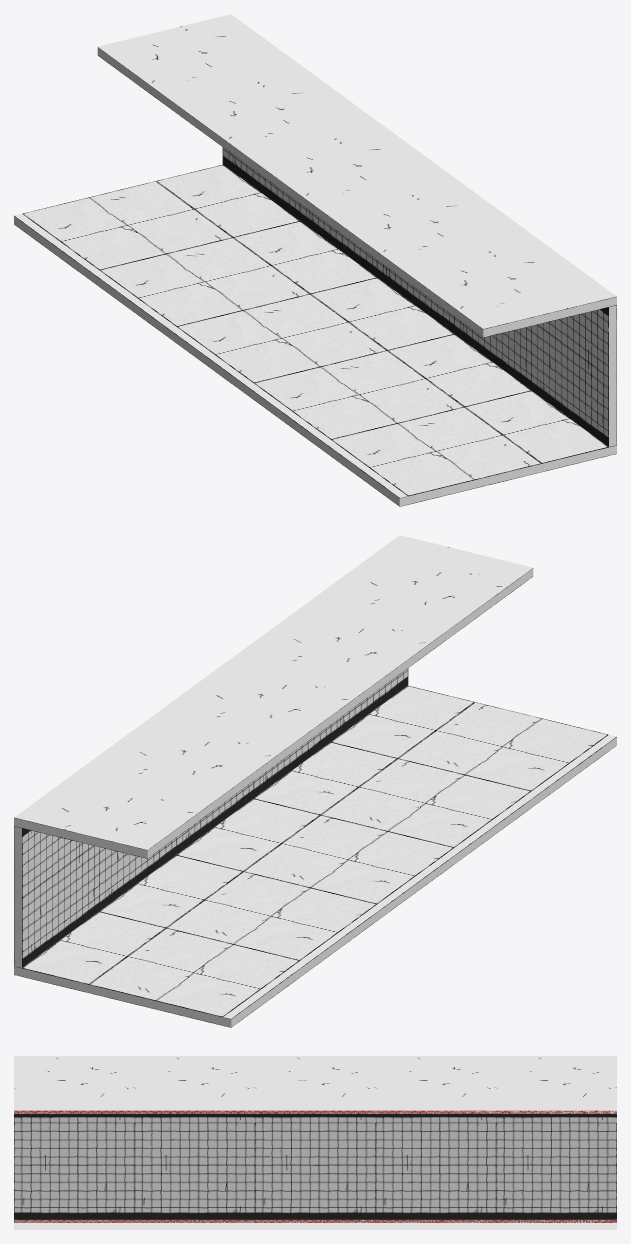
Rendered from Station1.glb.
3 renders of one model, top to bottom at view 1: azimuth 30°, elevation 25°; view 2: azimuth 150°, elevation 25°; view 3: azimuth 270°, elevation 25°, orthographic. The views are drawn at different scales.
Parts seen in each view (by area): view 1: entity0_brush1.001; view 2: entity0_brush1.001; view 3: entity0_brush1.001.
Part boxes in pixels (<box>): entity0_brush1.001: <box>14,14,616,506</box>; entity0_brush1.001: <box>14,535,616,1027</box>; entity0_brush1.001: <box>14,1056,616,1229</box>.
Bounding box in the file's own units: 4.16 × 2.88 × 12.8.
6 materials, 6 textured.
